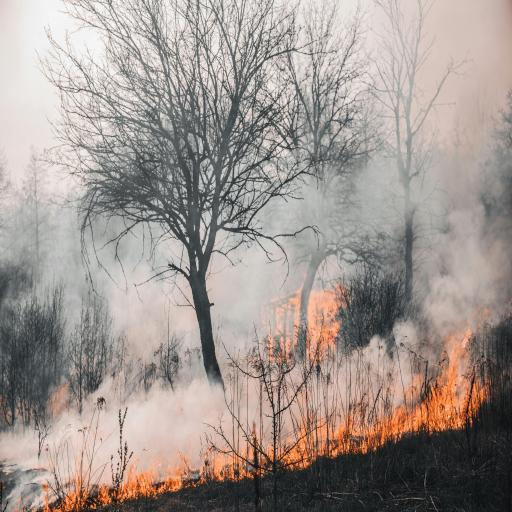smoke: (0, 1, 201, 358), (206, 151, 405, 407), (413, 156, 512, 372), (94, 350, 231, 476), (420, 0, 512, 92)
wildfire: (0, 0, 512, 512)
